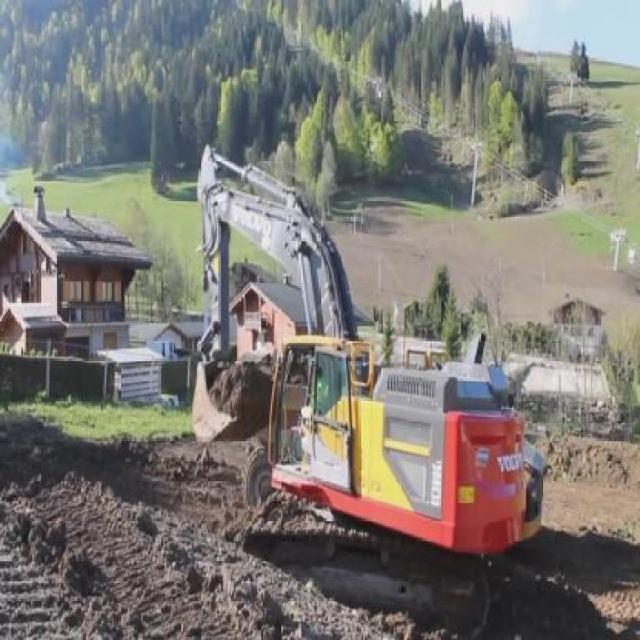excavator: (190, 141, 528, 634)
